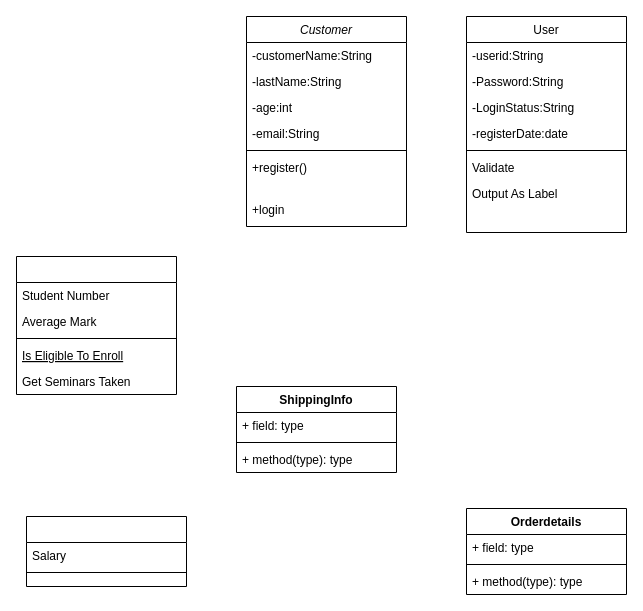
Image size: 643x611. Some labels were removed from this diagram. Here are the shapes that lost their labels. From the top down, the box of each, then its label:
(16, 256, 176, 394): Shoppingcart
(26, 516, 186, 586): Order
